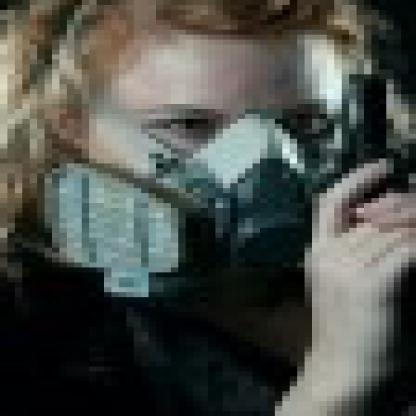gun: (320, 69, 408, 347)
